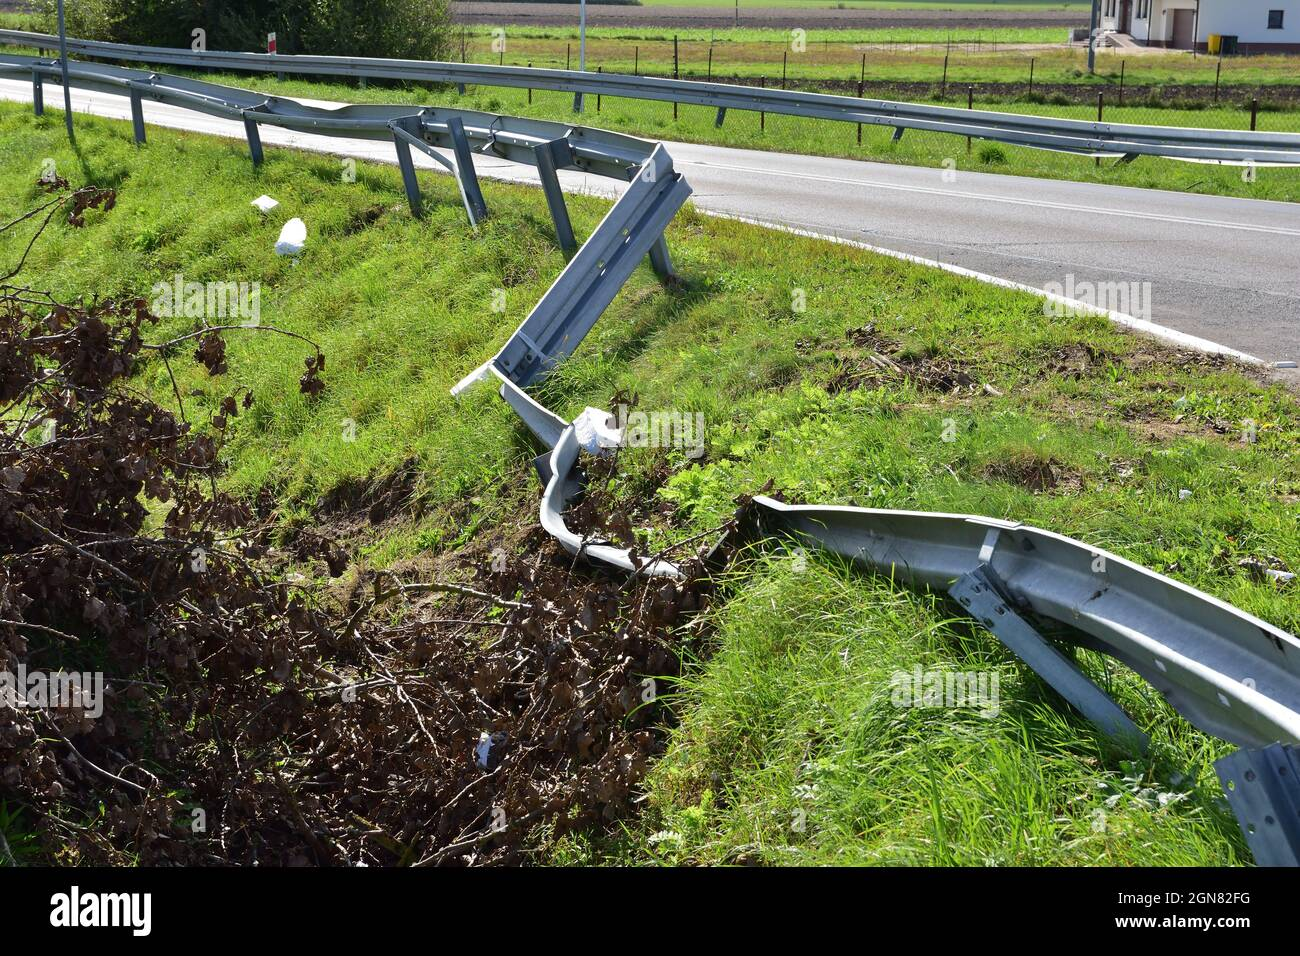damaged: (450, 373, 979, 622), (1060, 610, 1281, 790), (269, 78, 608, 191)
